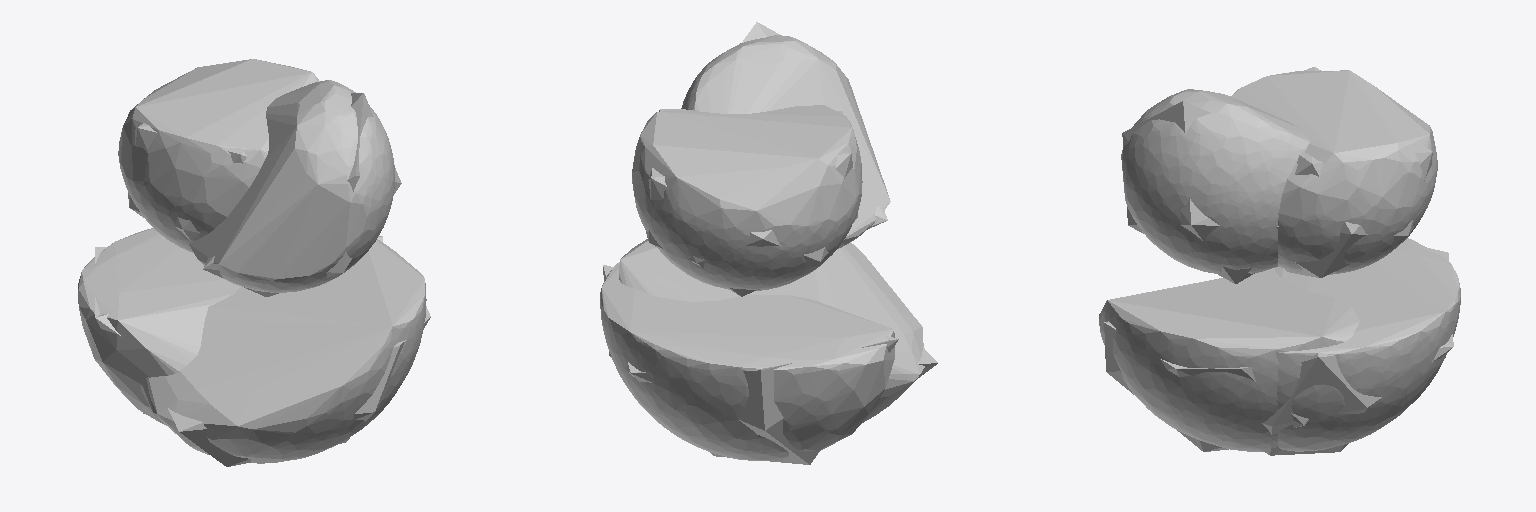
Rendered from rom.obj.
3 renders of one model, left to right at view 1: azimuth 30°, elevation 25°; view 2: azimuth 150°, elevation 25°; view 3: azimuth 270°, elevation 25°, orthographic.
Visible parts, largest first — view 1: foo.003, foo, foo.001, foo.002, upper_right_leg_z_joint__foo.007, upper_right_arm_z_joint__foo.004, upper_left_arm_z_joint_foo.000_foo.005; view 2: foo.002, foo.001, foo, foo.003, upper_left_leg_z_joint_foo.006, upper_left_arm_z_joint_foo.000_foo.005; view 3: foo.003, foo.001, foo, foo.002, upper_left_leg_z_joint_foo.006, upper_left_arm_z_joint_foo.000_foo.005, upper_right_arm_z_joint__foo.004, upper_right_leg_z_joint__foo.007.
Boxes of the visible parts, box(x1,y1,x2,y2) form: foo.003: box(141, 239, 426, 463); foo: box(189, 80, 394, 292); foo.001: box(118, 59, 319, 252); foo.002: box(78, 228, 240, 425); upper_right_leg_z_joint__foo.007: box(168, 306, 430, 466); upper_right_arm_z_joint__foo.004: box(203, 93, 401, 296); upper_left_arm_z_joint_foo.000_foo.005: box(128, 123, 246, 240); foo.002: box(600, 262, 894, 460); foo.001: box(632, 105, 862, 290); foo: box(681, 35, 890, 248); foo.003: box(619, 239, 924, 423); upper_left_leg_z_joint_foo.006: box(603, 265, 898, 464); upper_left_arm_z_joint_foo.000_foo.005: box(645, 109, 857, 296); foo.003: box(1099, 268, 1359, 451); foo.001: box(1231, 70, 1437, 274); foo: box(1121, 89, 1309, 273); foo.002: box(1275, 238, 1460, 451); upper_left_leg_z_joint_foo.006: box(1262, 245, 1453, 455); upper_left_arm_z_joint_foo.000_foo.005: box(1230, 67, 1432, 277); upper_right_arm_z_joint__foo.004: box(1122, 101, 1279, 283); upper_right_leg_z_joint__foo.007: box(1104, 321, 1308, 451).
Size of the model in its own units: 1.94 by 2.34 by 2.09.